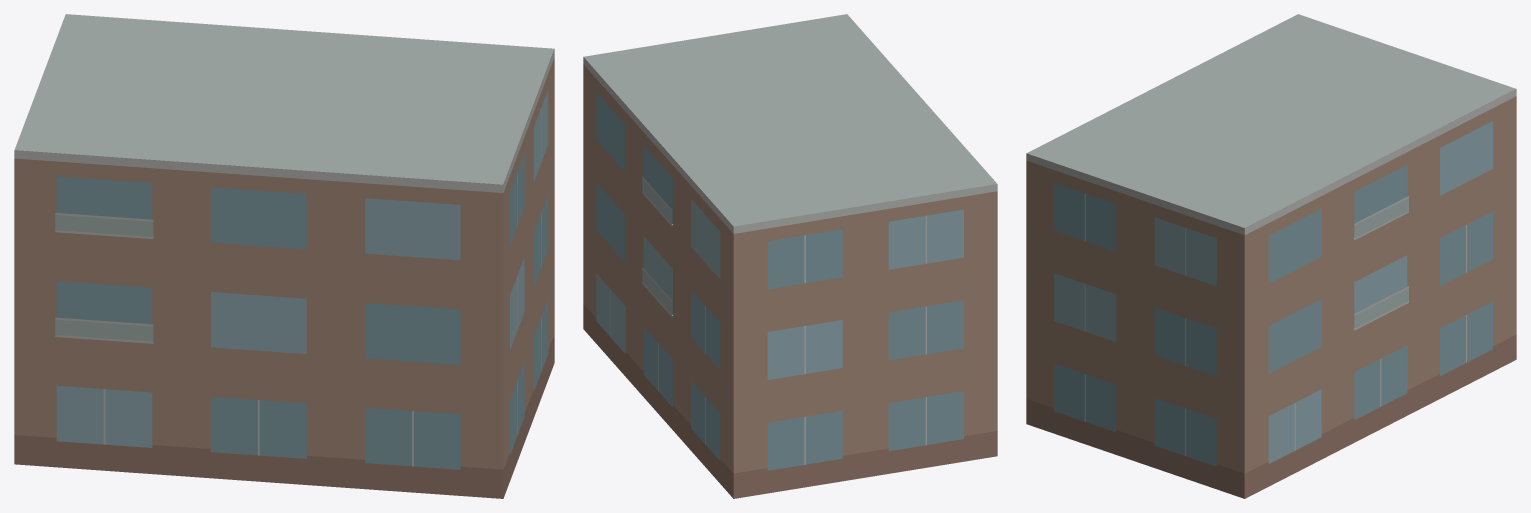
The model's file is survey-upis-32716206.glb.
The picture shows the model from 3 angles, left to right: view 1: azimuth 30°, elevation 25°; view 2: azimuth 150°, elevation 25°; view 3: azimuth 270°, elevation 25°; orthographic projection. The views are drawn at different scales.
Parts seen in each view (by area): view 1: survey-upis-32716206.tmp; view 2: survey-upis-32716206.tmp; view 3: survey-upis-32716206.tmp.
Boxes of the visible parts, x1=… form: survey-upis-32716206.tmp: x1=14, y1=14, x2=554, y2=498; survey-upis-32716206.tmp: x1=583, y1=14, x2=997, y2=498; survey-upis-32716206.tmp: x1=1026, y1=14, x2=1516, y2=498.
Bounding box in the file's own units: 15.53 × 9.15 × 15.02.
